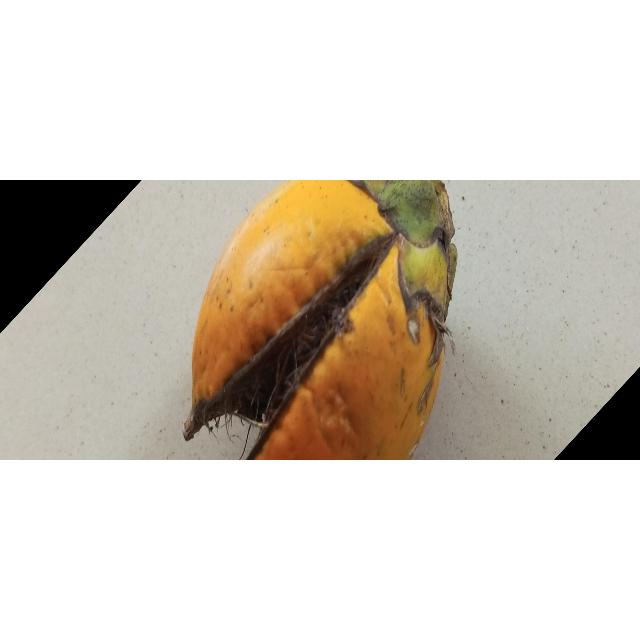damaged: (183, 180, 458, 461)
